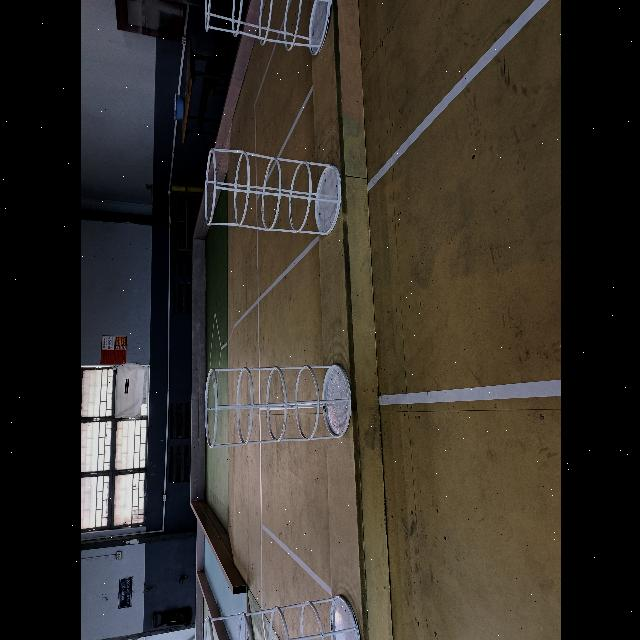S: (203, 148, 344, 235), (205, 365, 352, 446), (205, 595, 360, 640), (205, 0, 331, 55)
